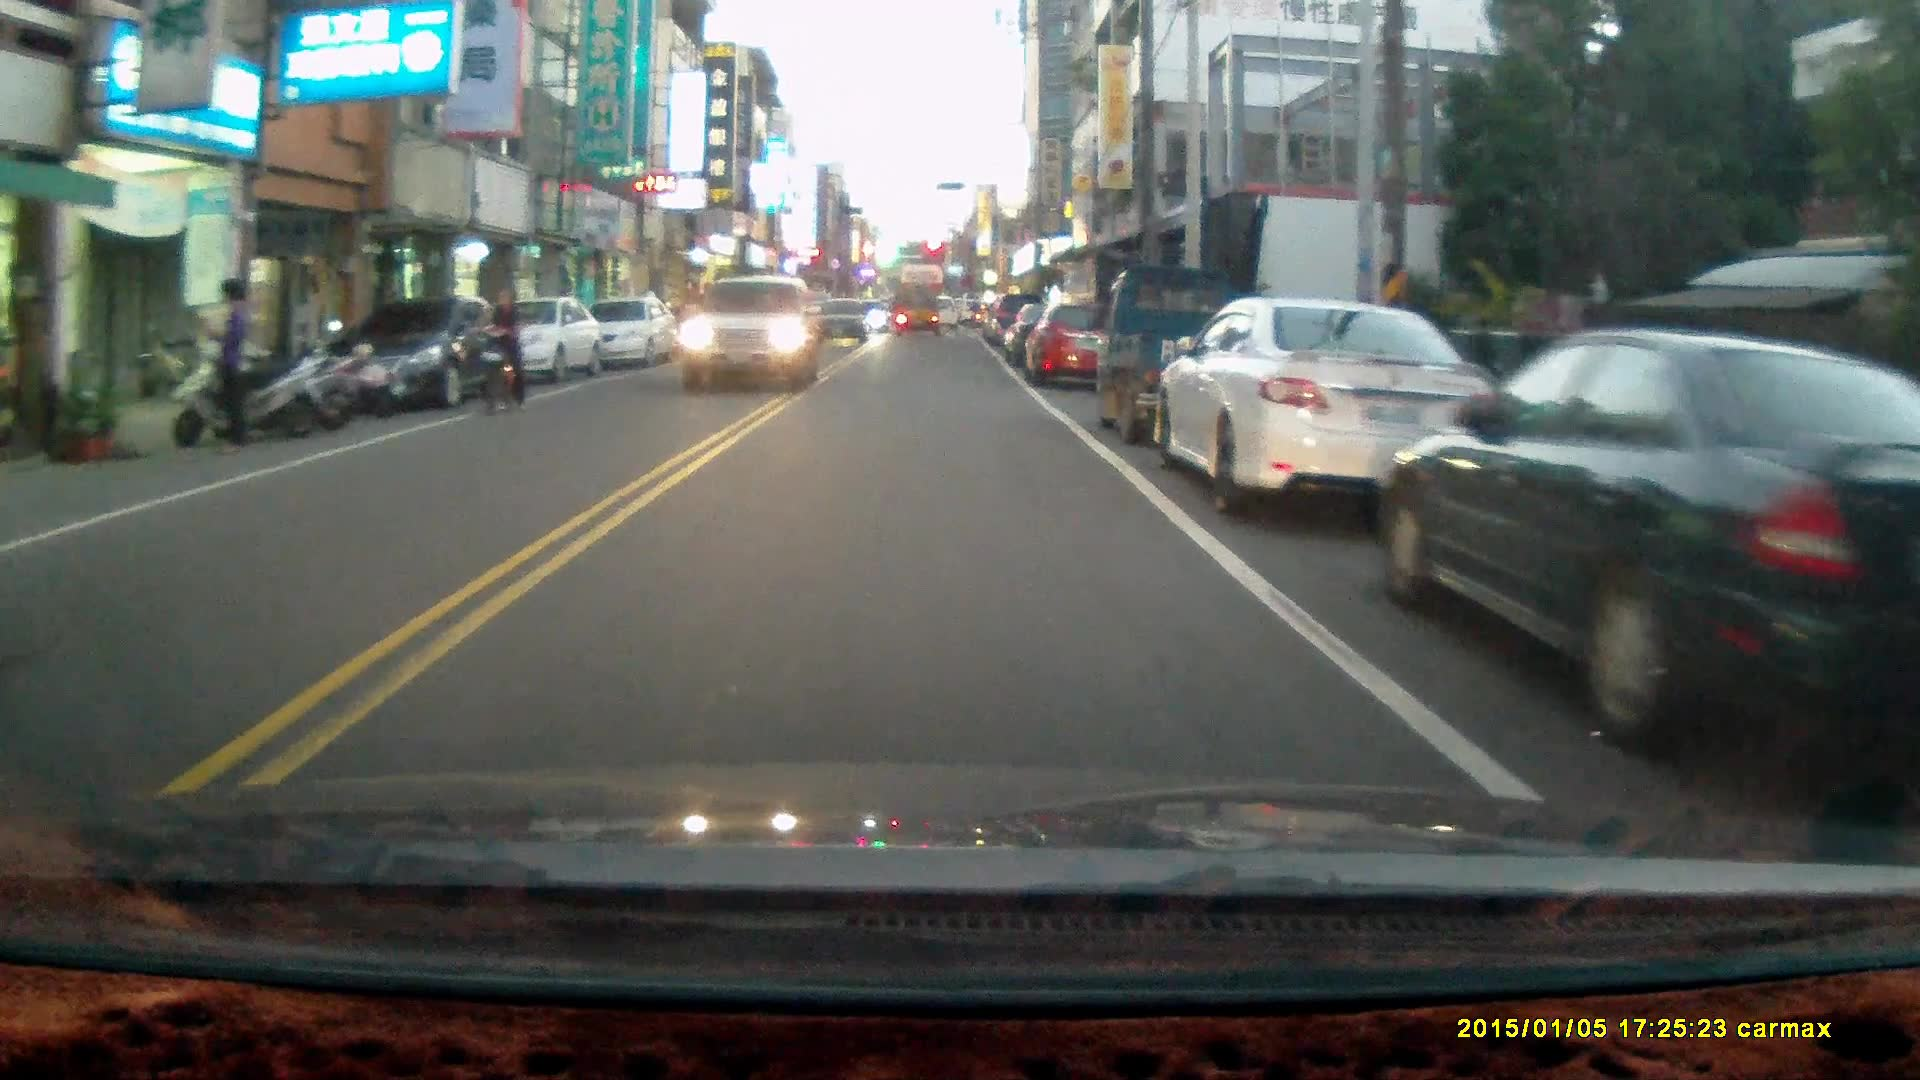pedestrian: (199, 274, 249, 457)
rider: (476, 284, 527, 415)
vehicle: (1377, 323, 1920, 762), (1151, 295, 1504, 515), (1094, 261, 1277, 453), (324, 287, 513, 406), (676, 277, 821, 390), (1025, 302, 1126, 390), (574, 298, 677, 367), (810, 297, 873, 346), (891, 282, 944, 339)
